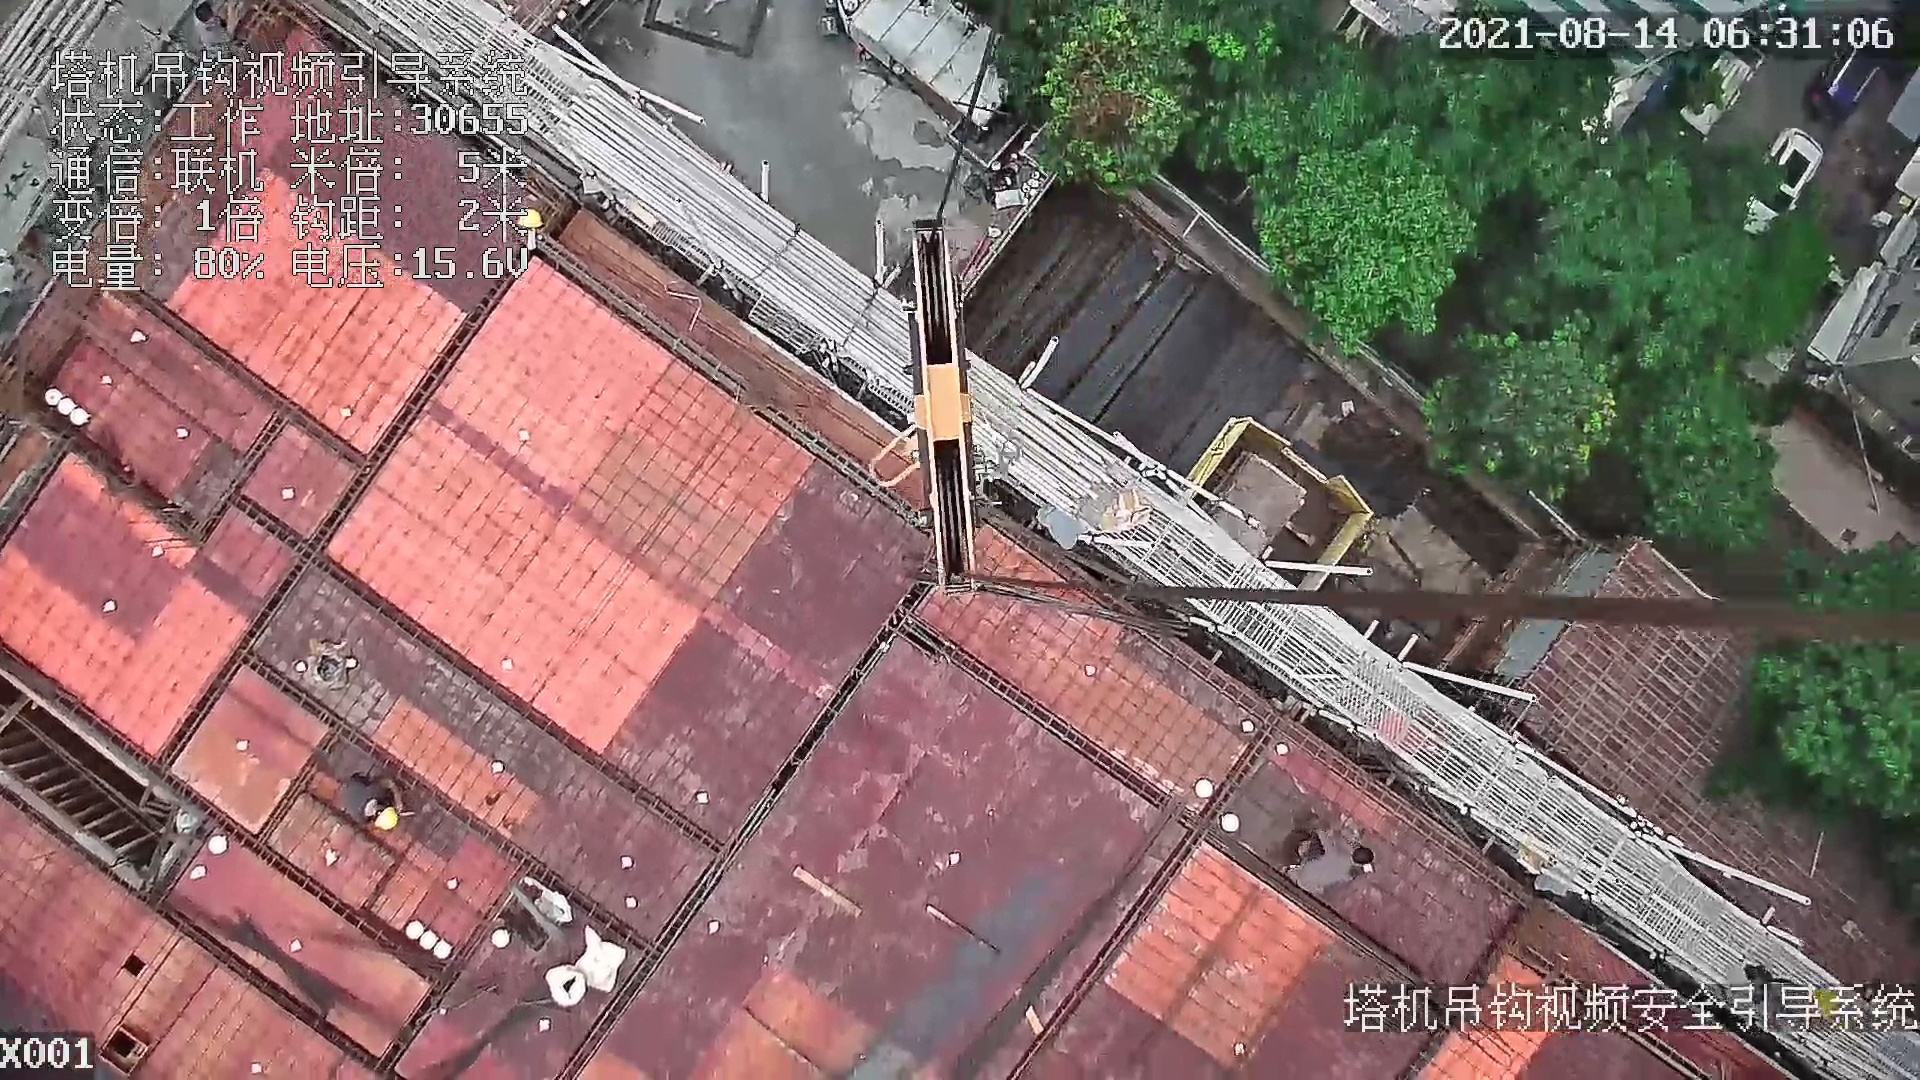helmet: (516, 207, 545, 228), (373, 807, 398, 829)
hook: (863, 208, 982, 610)
person: (340, 767, 400, 832)
